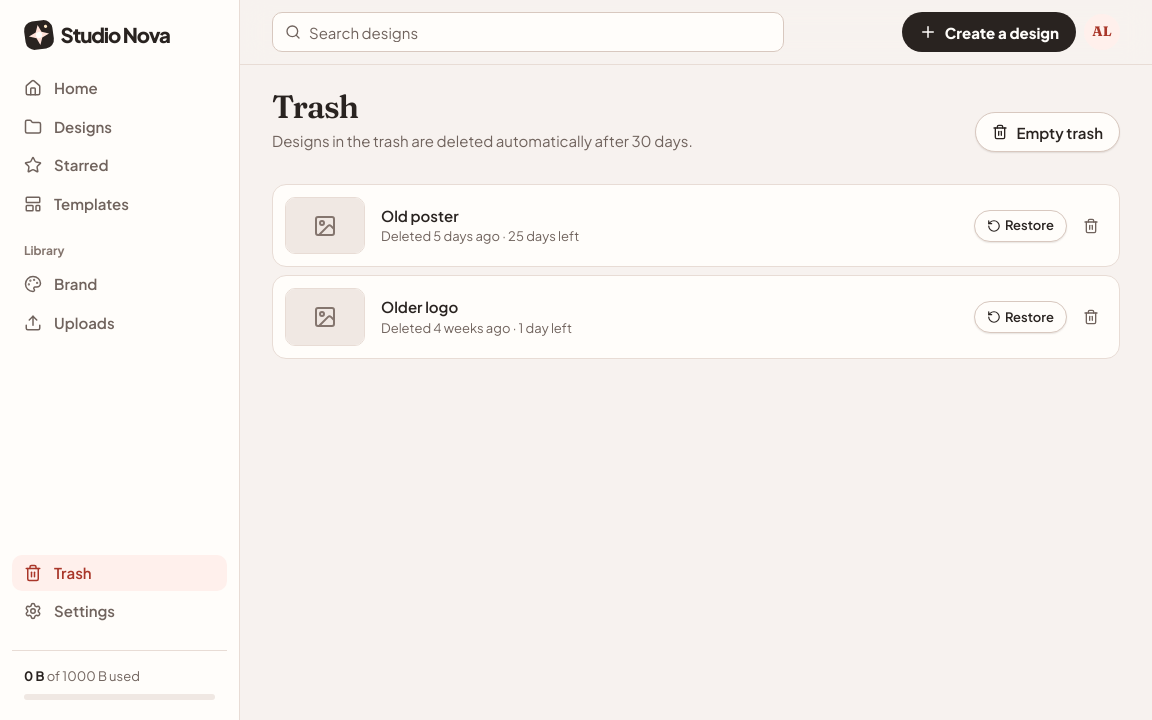
Test: trash page › empties the trash only after confirmation
The image size is (1152, 720).
Click the button "Empty trash".
click(1048, 132)  # box [975,112,1120,152]
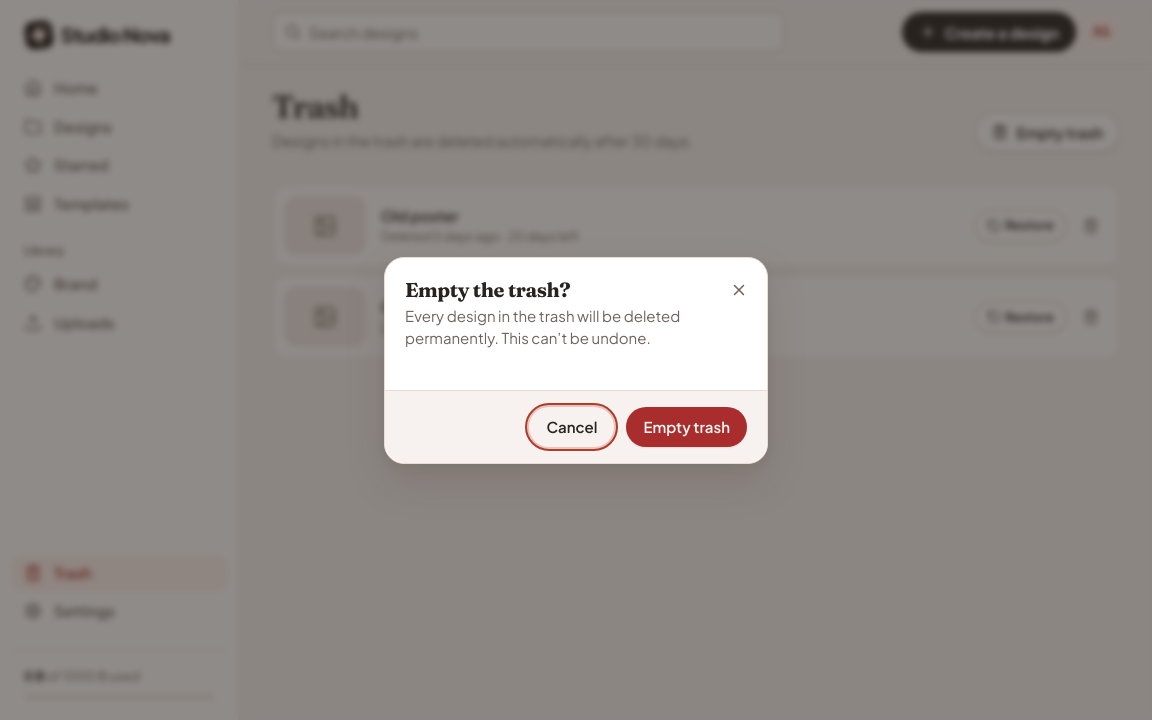
Click the button "Empty trash".
click(687, 426)  # box [626,406,747,446]
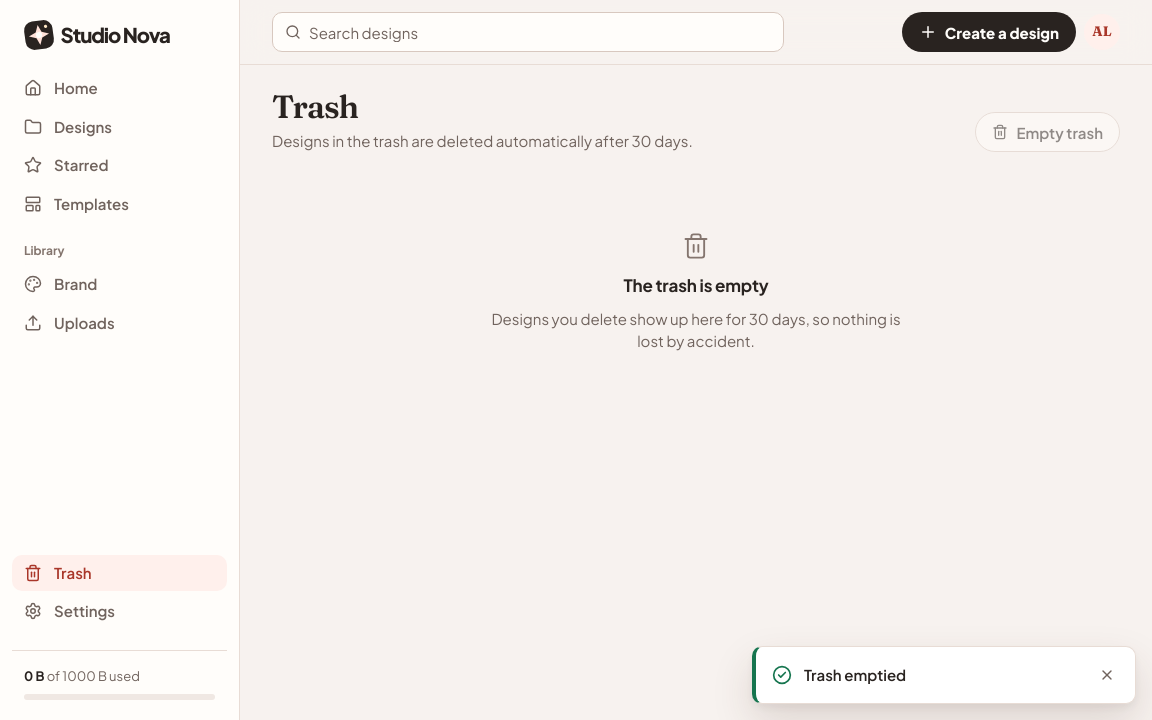
expect the heading "The trash is empty" is shown: met, box [623,276,769,296]
